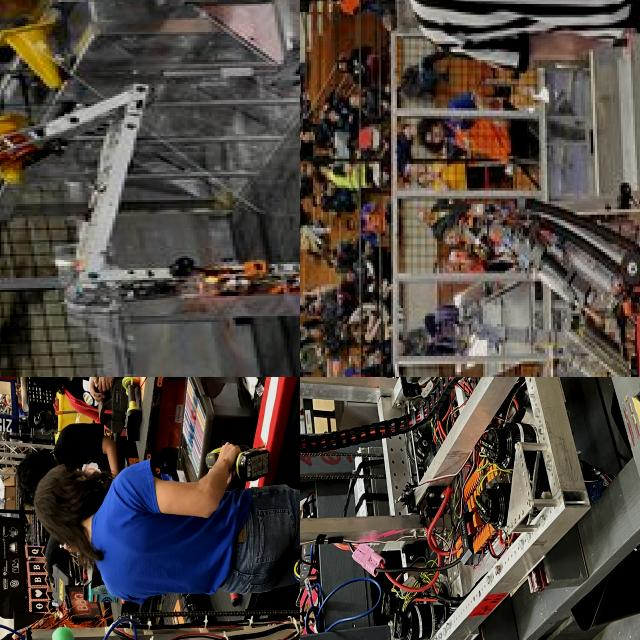FRC-Robots: (0, 18, 300, 377), (300, 377, 579, 640), (0, 467, 300, 640), (467, 118, 640, 377), (458, 215, 640, 377)
